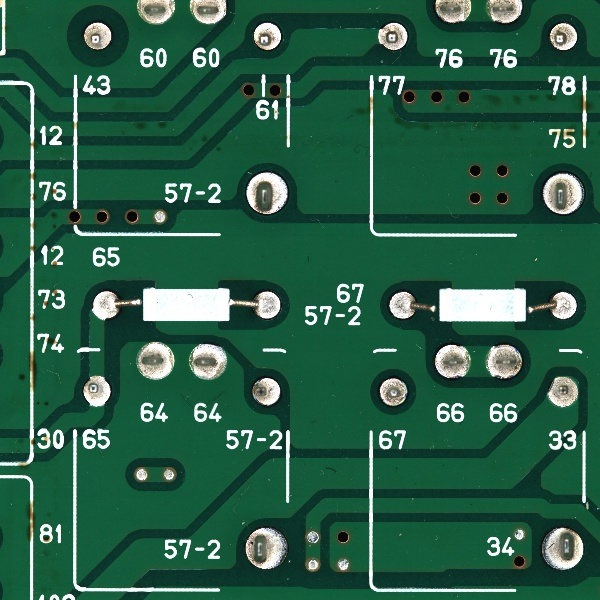Circle: (239, 523, 292, 574), (242, 166, 292, 220), (537, 523, 587, 574), (540, 168, 588, 219), (185, 338, 230, 387), (134, 338, 176, 387), (483, 341, 525, 385), (430, 342, 474, 382), (75, 372, 119, 411), (540, 373, 585, 411), (546, 287, 584, 329), (380, 287, 420, 326), (247, 286, 285, 327), (246, 371, 284, 412), (375, 374, 412, 411), (546, 18, 580, 57), (89, 287, 122, 324), (249, 18, 283, 52), (376, 20, 411, 53), (82, 20, 112, 51)
